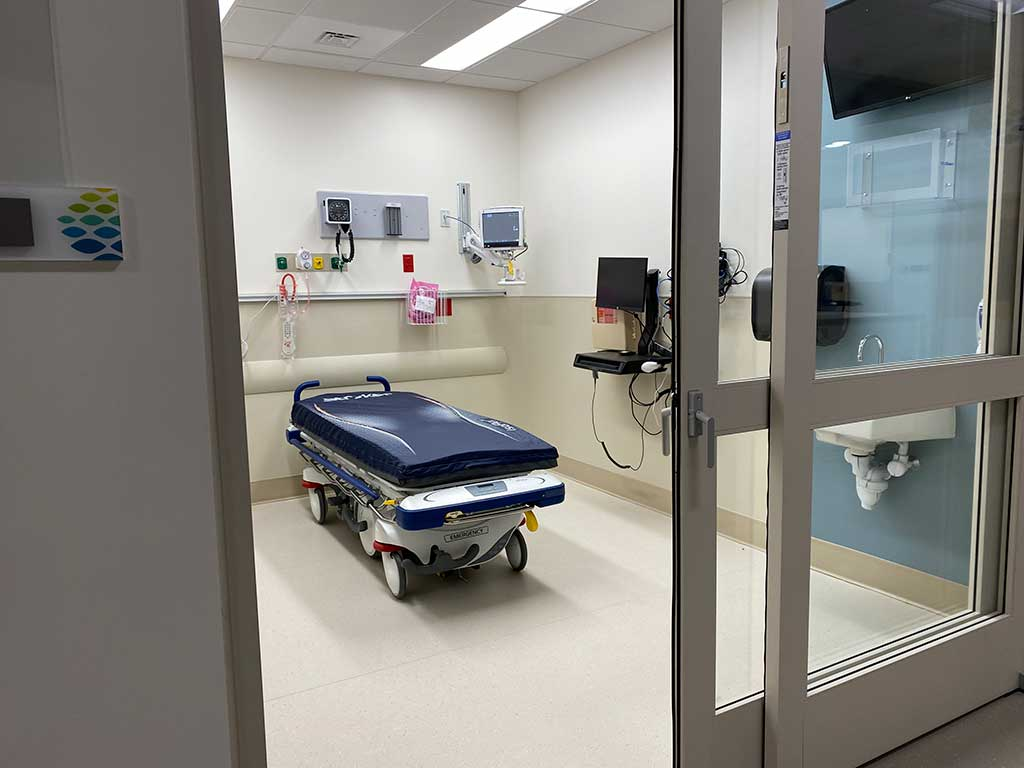TV: (820, 1, 1000, 120)
bedside_monitor: (480, 205, 526, 251)
computer: (594, 257, 648, 312)
dispenser: (750, 260, 832, 358), (973, 293, 984, 358)
door_handle: (698, 410, 716, 466), (660, 408, 671, 458)
exam_table: (284, 376, 566, 599)
faucet: (857, 333, 883, 368)
keyboard: (568, 349, 624, 377)
mouse: (638, 357, 662, 376), (619, 349, 636, 357)
sink: (812, 407, 955, 508)
